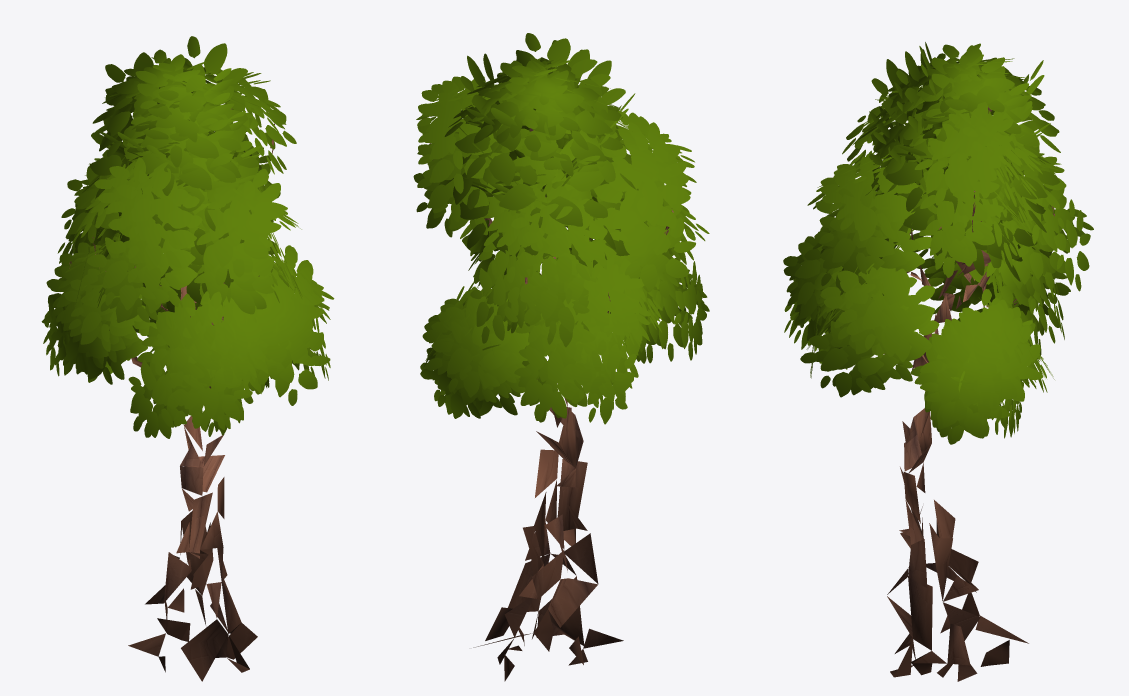
File: CommonTree_1_LOD.glb
The picture shows the model from 3 angles, left to right: view 1: azimuth 30°, elevation 25°; view 2: azimuth 150°, elevation 25°; view 3: azimuth 270°, elevation 25°; orthographic projection. The views are drawn at different scales.
Parts seen in each view (by area): view 1: CommonTree_1; view 2: CommonTree_1; view 3: CommonTree_1.
Boxes of the visible parts, x1=… form: CommonTree_1: x1=41, y1=36, x2=334, y2=681; CommonTree_1: x1=413, y1=33, x2=709, y2=681; CommonTree_1: x1=783, y1=42, x2=1093, y2=681.
Bounding box in the file's own units: 4.8 × 9.95 × 5.15.
2 materials, 2 textured.
